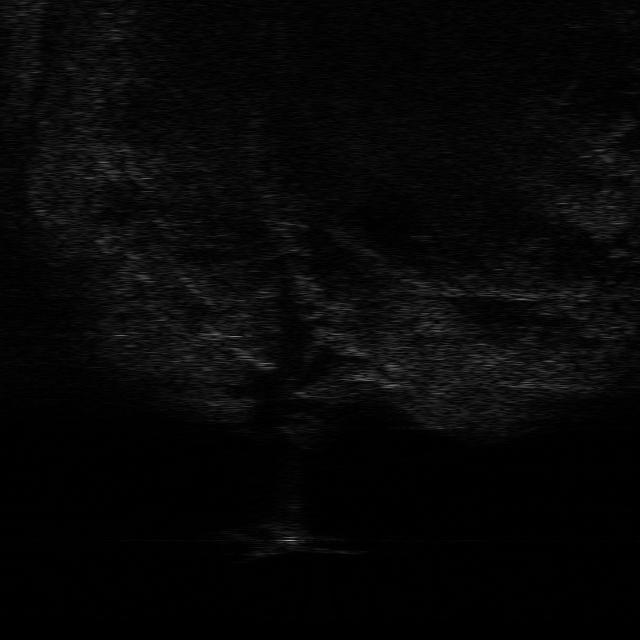plane: (222, 522, 364, 558)
